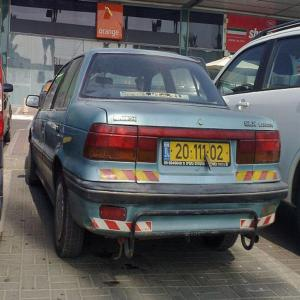Vehicle-registration-plate: (162, 135, 243, 175)
